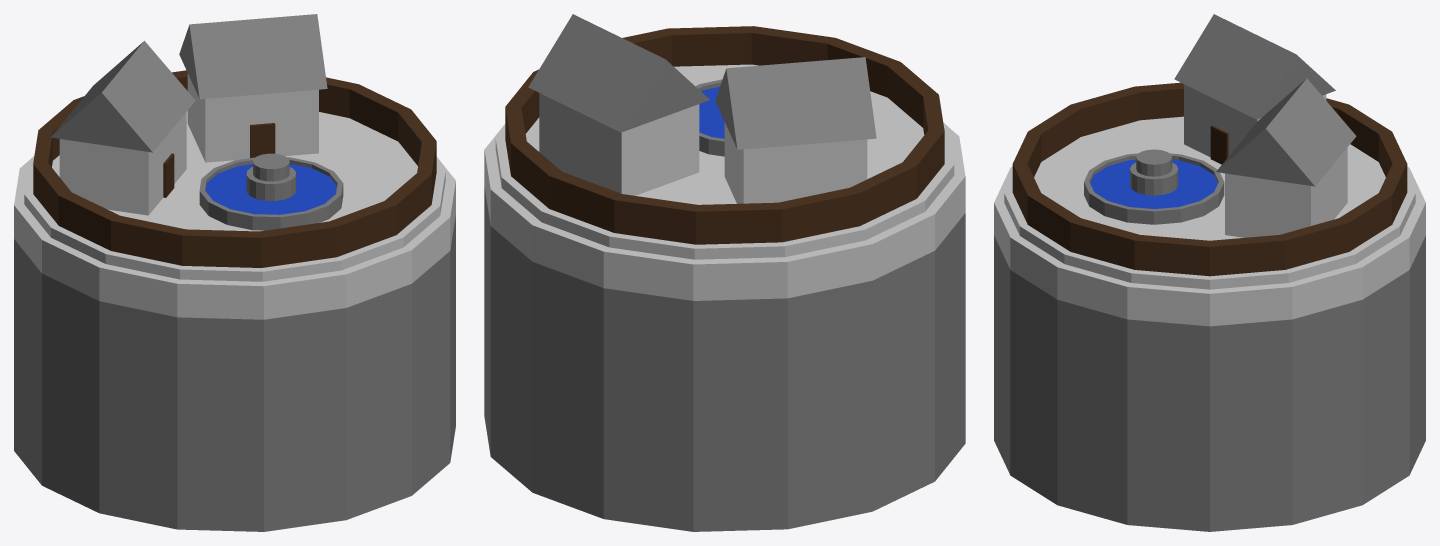
Rendered from settlement.obj.
3 renders of one model, left to right at view 1: azimuth 30°, elevation 25°; view 2: azimuth 150°, elevation 25°; view 3: azimuth 270°, elevation 25°, orthographic. The views are drawn at different scales.
Parts seen in each view (by area): view 1: Cylinder.001; view 2: Cylinder.001; view 3: Cylinder.001.
Boxes of the visible parts, x1,y1,x2,y2 form: Cylinder.001: [14, 14, 455, 531]; Cylinder.001: [484, 14, 965, 531]; Cylinder.001: [994, 14, 1425, 531].
Size of the model in its own units: 0.6162 by 0.5742 by 0.6162.
